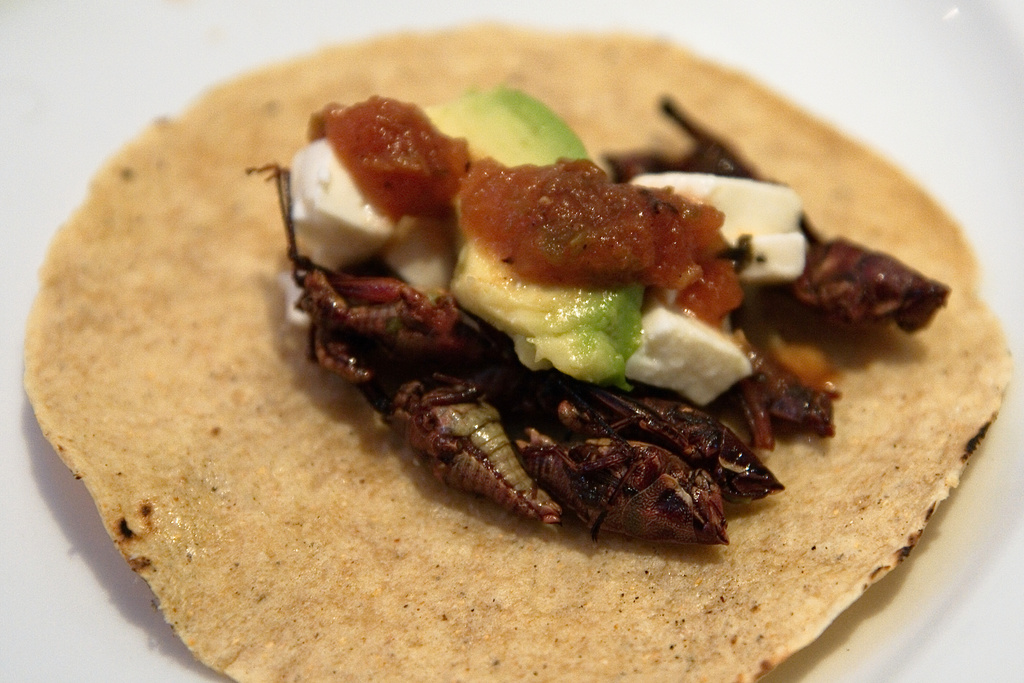taco: (305, 108, 909, 583)
